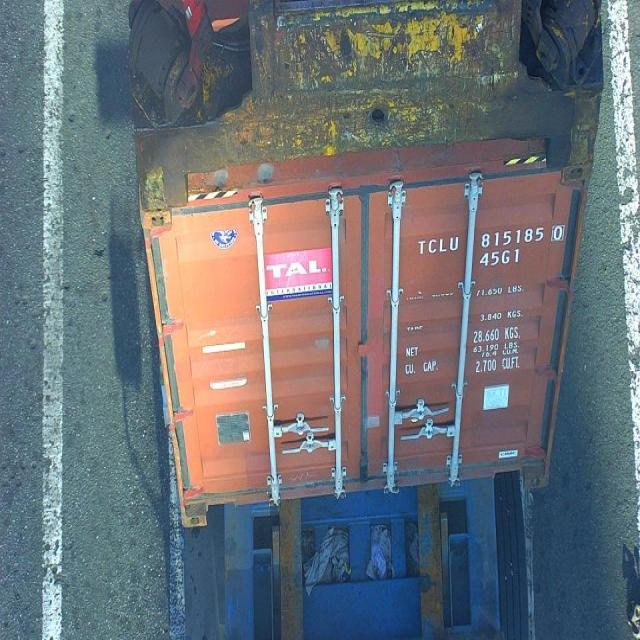ISO: (482, 246, 524, 274)
container_number: (418, 226, 564, 252)
